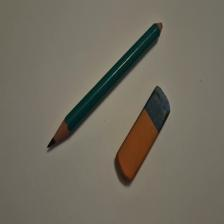eraser: (117, 86, 172, 182)
pencil: (48, 23, 164, 149)
